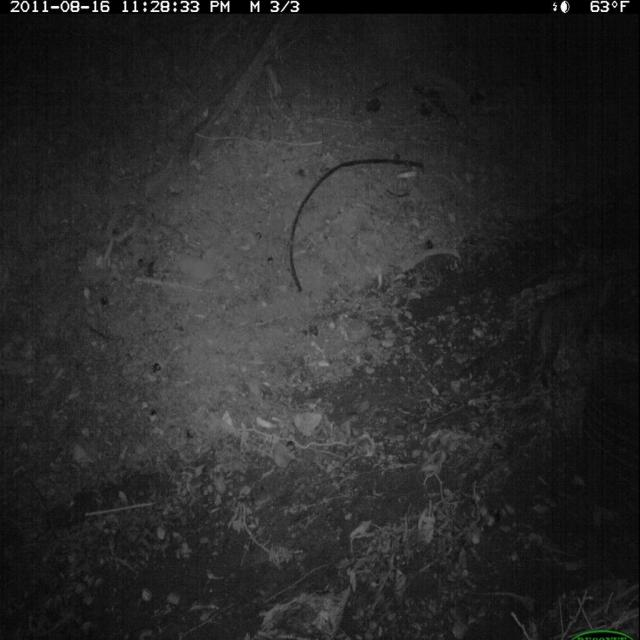cat: (521, 267, 621, 392)
